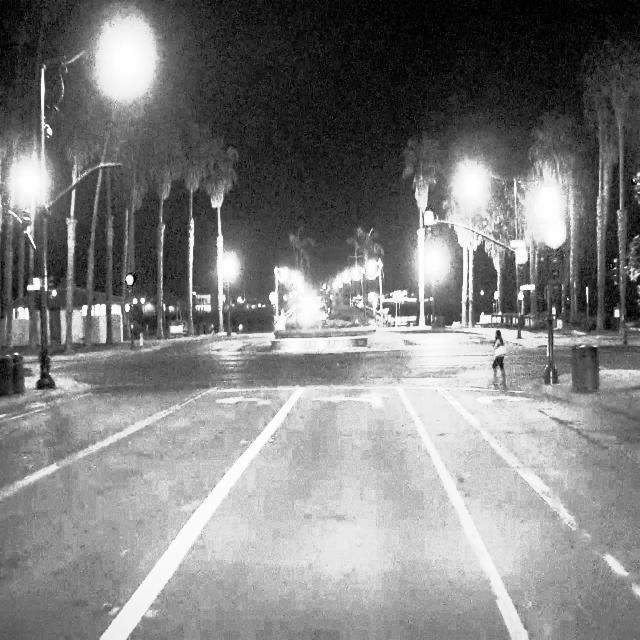Light: (547, 225, 563, 283), (21, 204, 33, 242), (630, 168, 640, 208), (609, 255, 618, 289), (423, 208, 433, 236), (517, 248, 526, 278), (126, 272, 134, 299)
